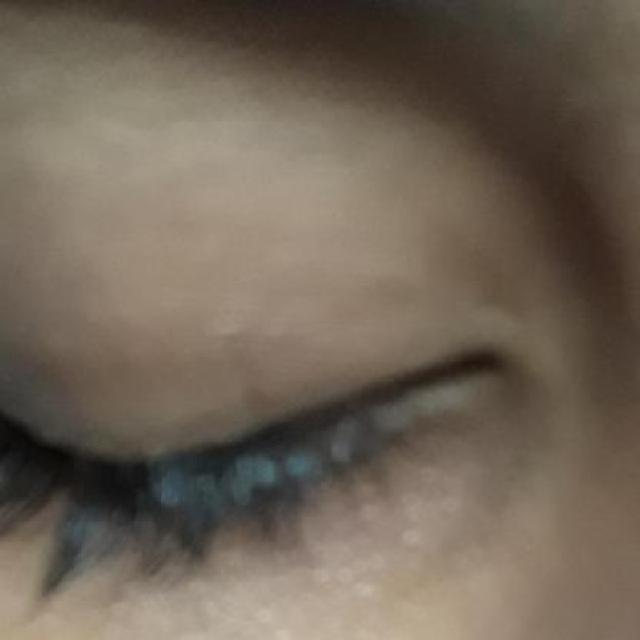drowsy: (0, 269, 503, 640)
